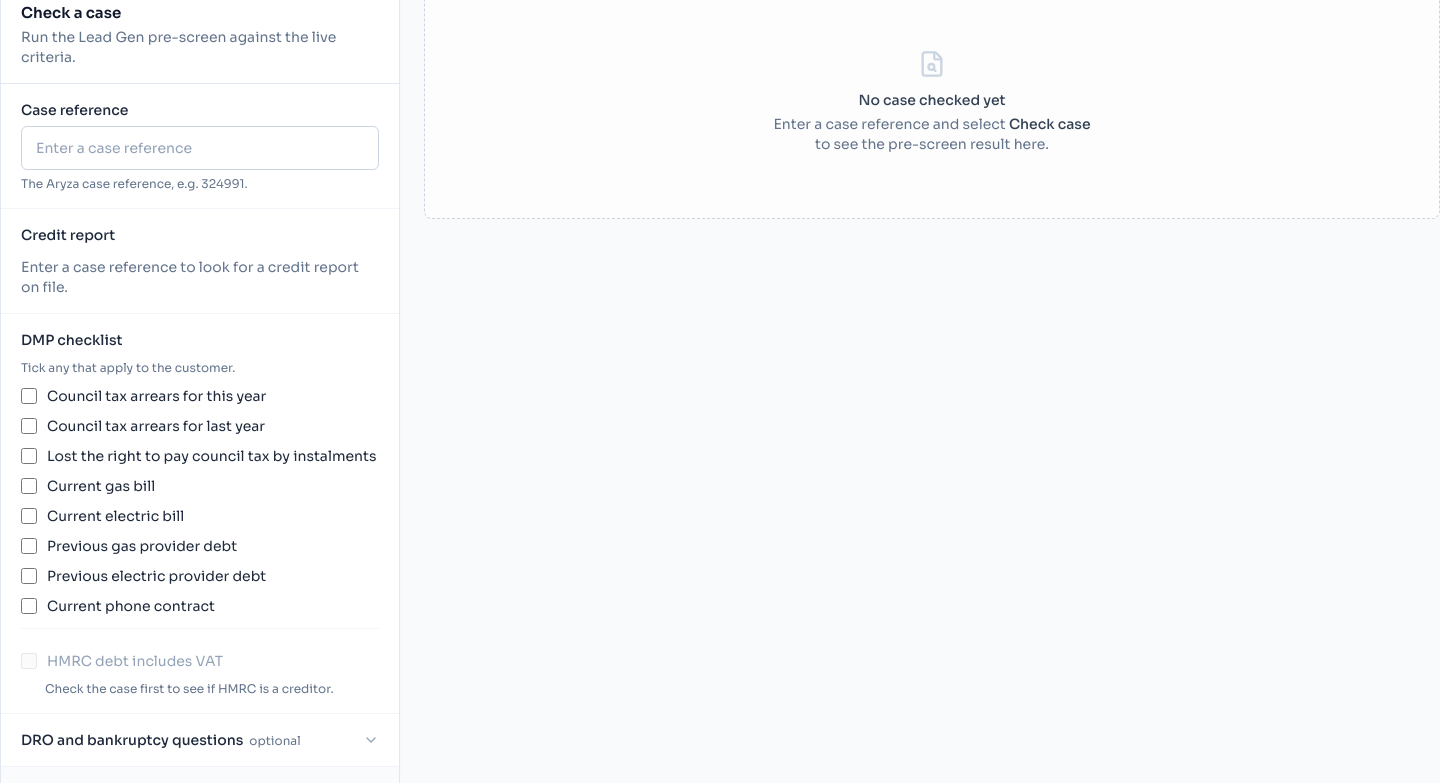
Test: LeadGenCheckPanel › shows IVA and DMP potentially suitable with evidence required later
Type "123456" into the field labelled "Case reference" at (200, 148), box x1=21 y1=126 x2=379 y2=170
(page scrolled)
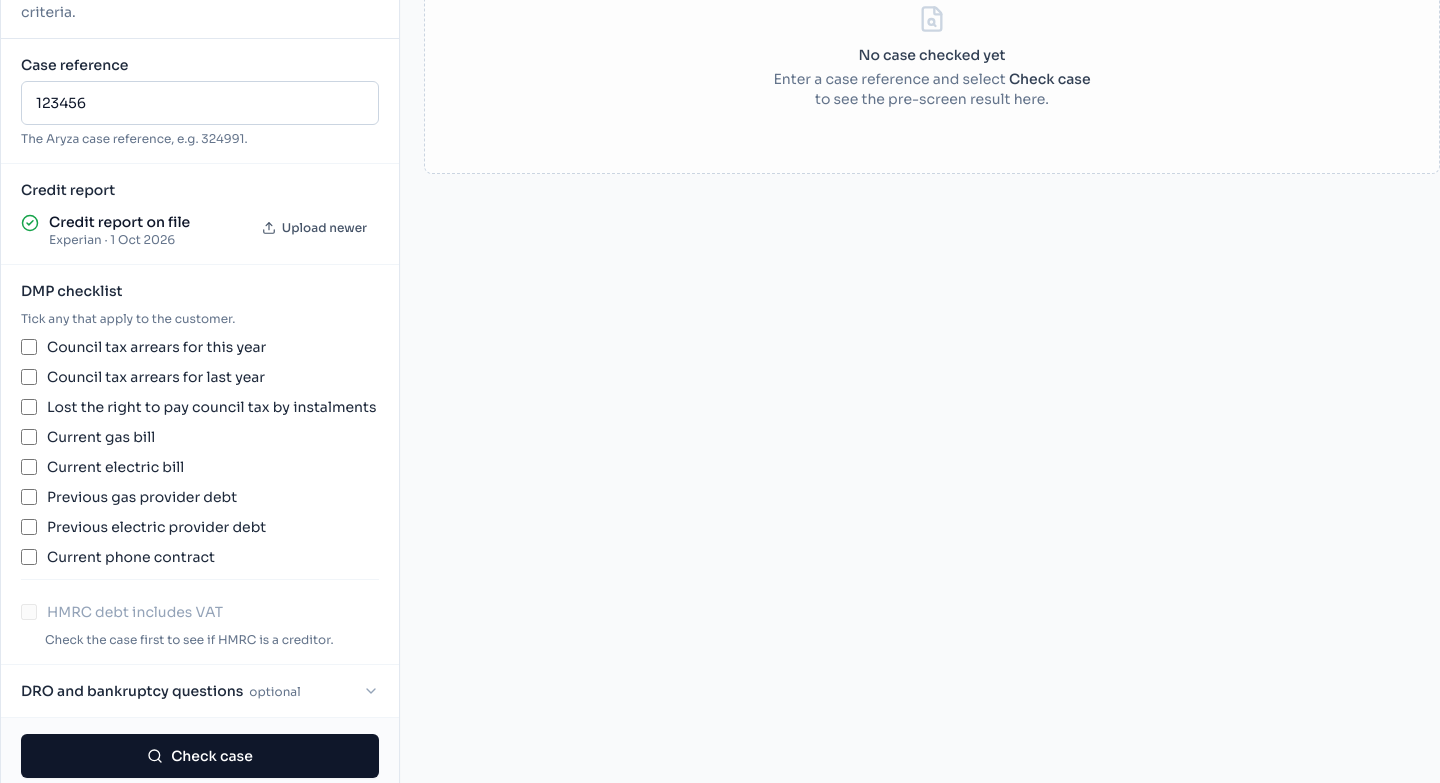
Click the button "Check case" at (200, 756), box x1=21 y1=734 x2=379 y2=778
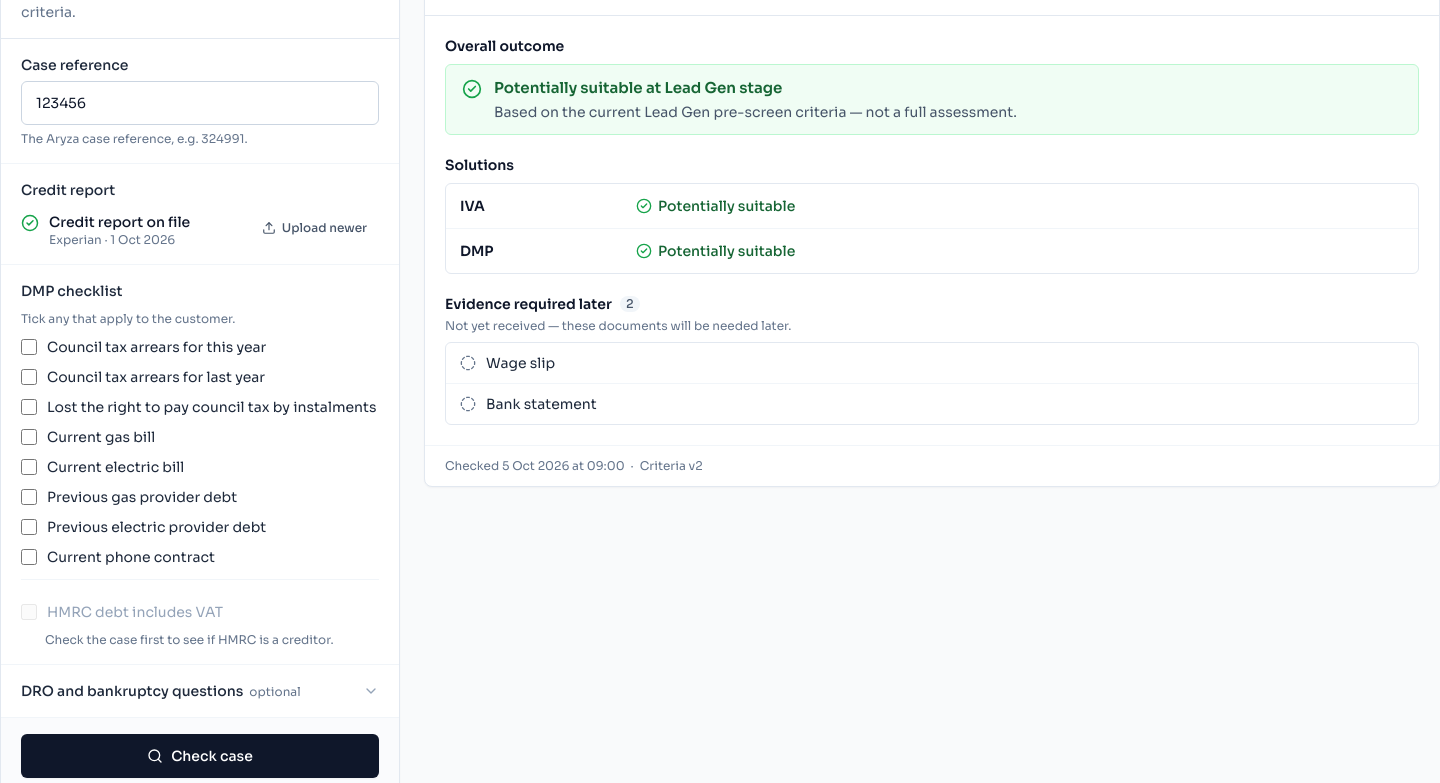
Now the text "Potentially suitable" in the row of "IVA" is shown, box x1=658 y1=196 x2=795 y2=214
Now the 2nd text "Potentially suitable" is shown, box x1=658 y1=240 x2=795 y2=260
Now the heading "Evidence required later" is shown, box x1=445 y1=294 x2=612 y2=314
